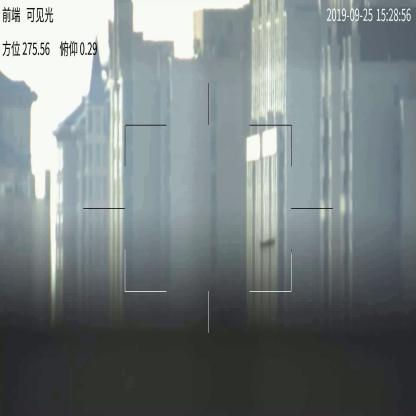uav: (260, 235, 276, 247)
